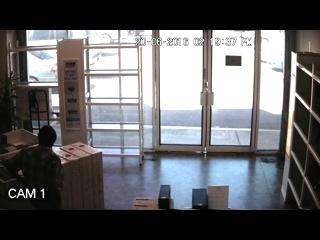Normal: (19, 126, 64, 209)
